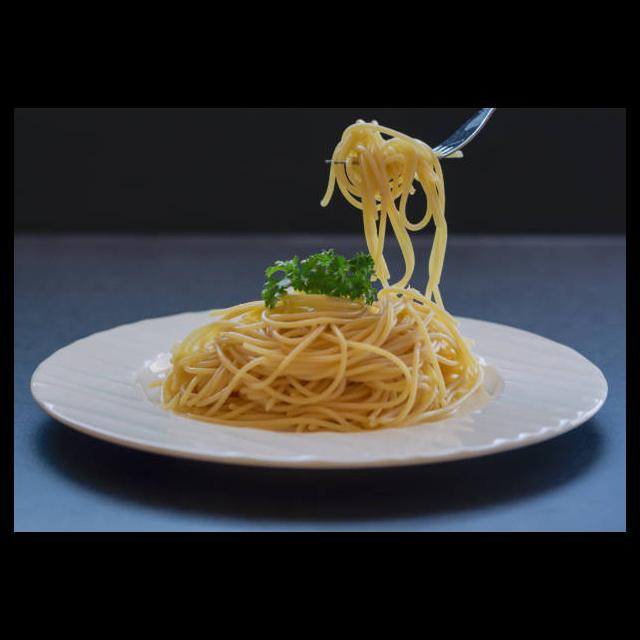noodles: (153, 262, 487, 435)
